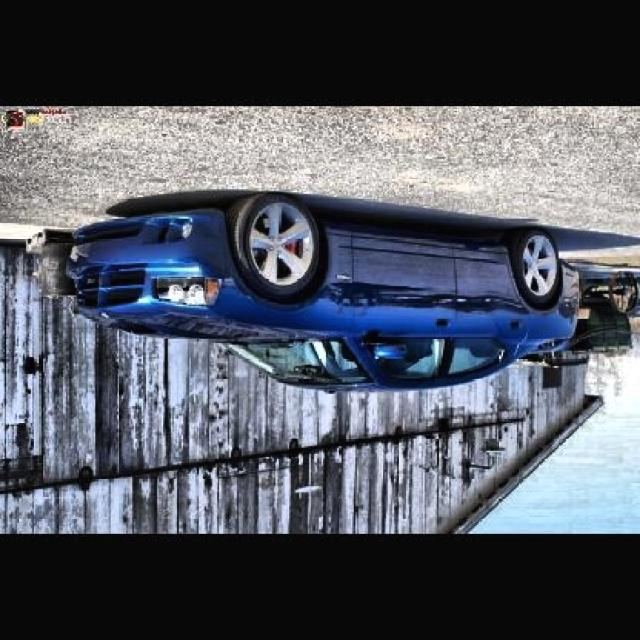blue: (66, 185, 574, 394)
